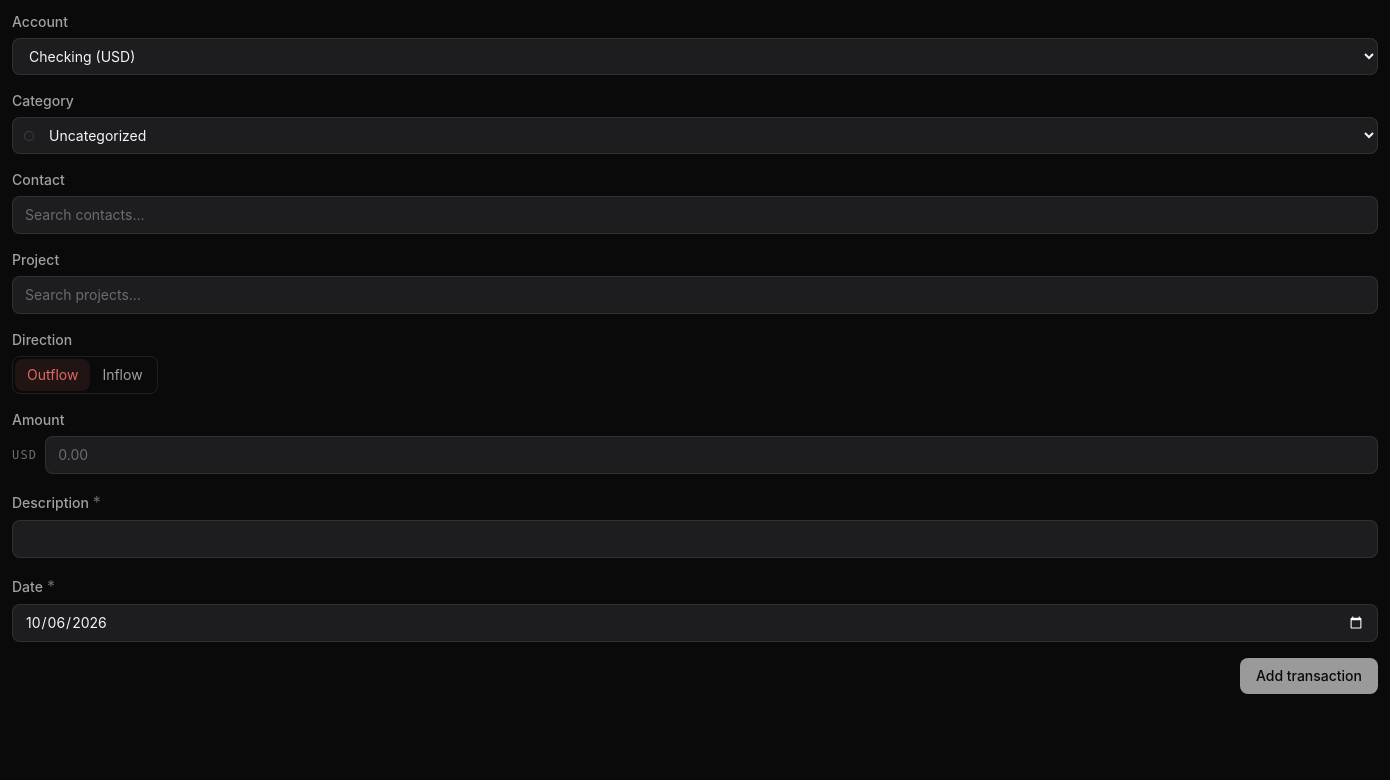
Test: TransactionForm — create › shows a friendly error when the account can't be found (404)
The width and height of the screenshot is (1390, 780).
Type "10" into the field labelled "Amount". click: {"x": 712, "y": 455}
box: [45, 436, 1378, 474]
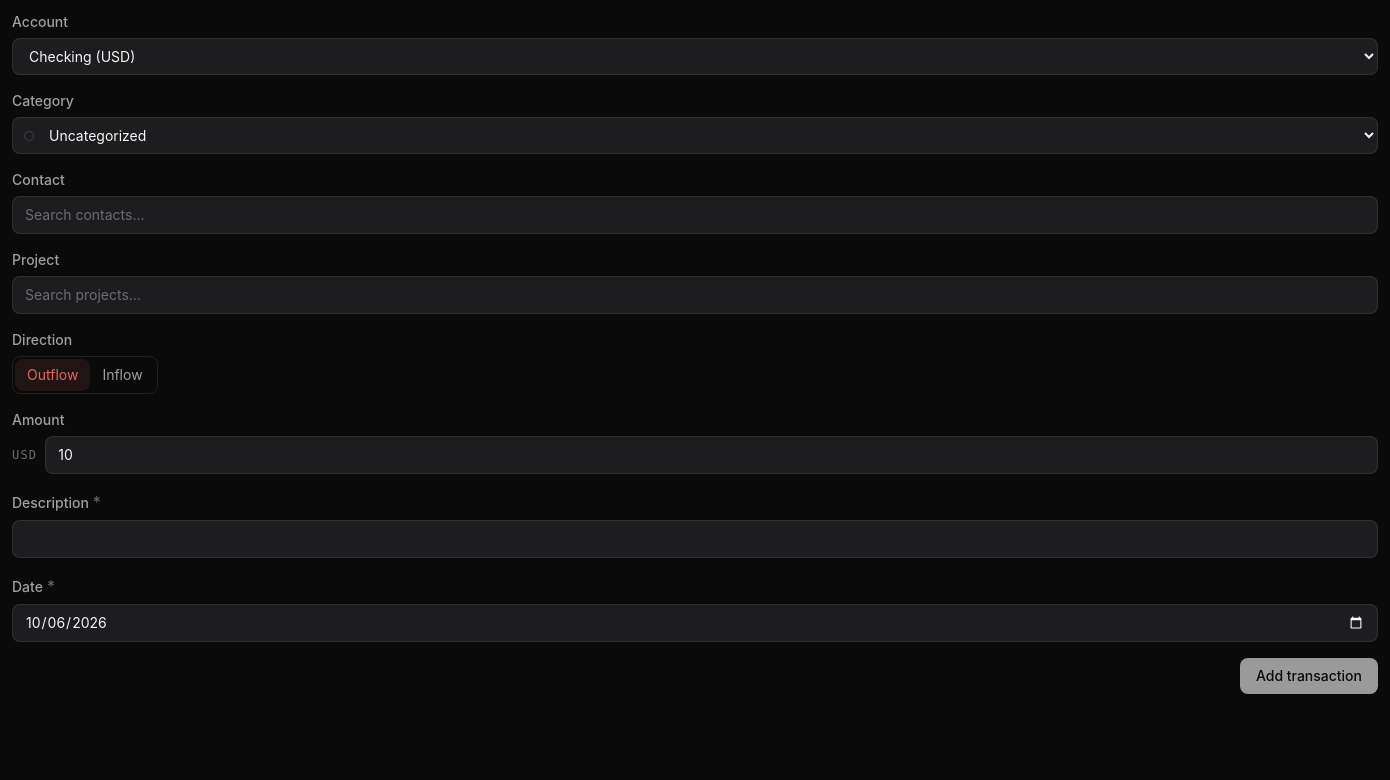
Type "Test" into the field labelled "Description". click: {"x": 695, "y": 539}
box: [12, 520, 1378, 558]
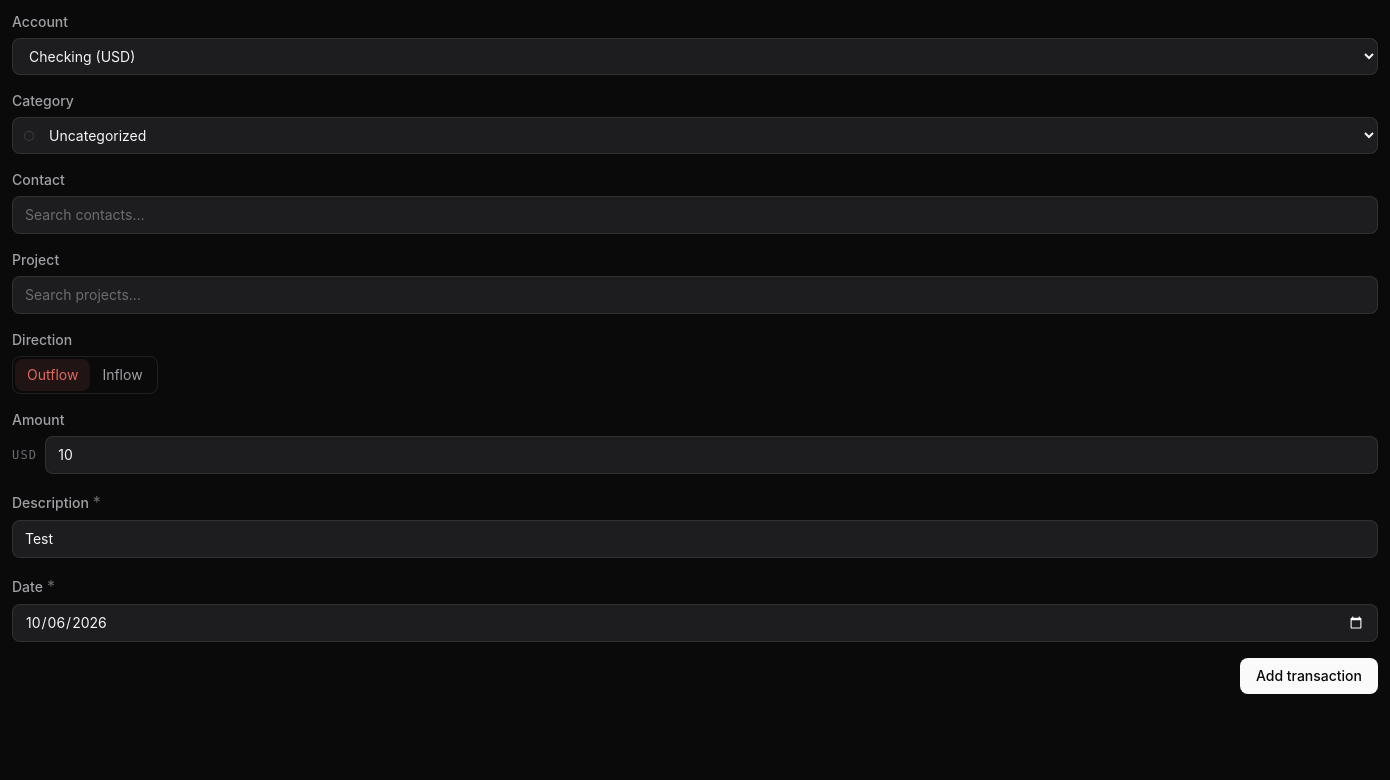
Type "2026-09-10" into the date field labelled "Date". click: {"x": 695, "y": 623}
box: [12, 604, 1378, 642]
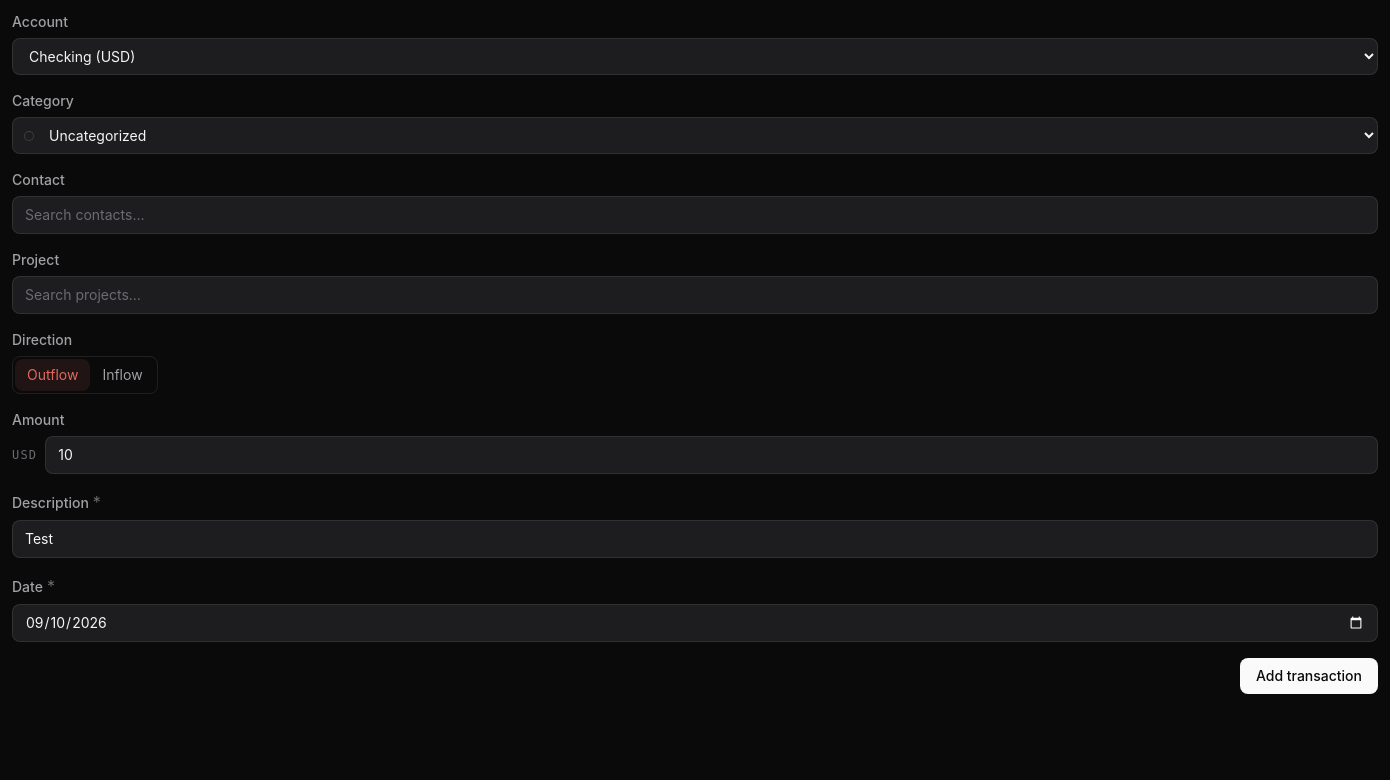
Click the button "Add transaction". click: {"x": 1309, "y": 676}
box: [1240, 658, 1378, 694]
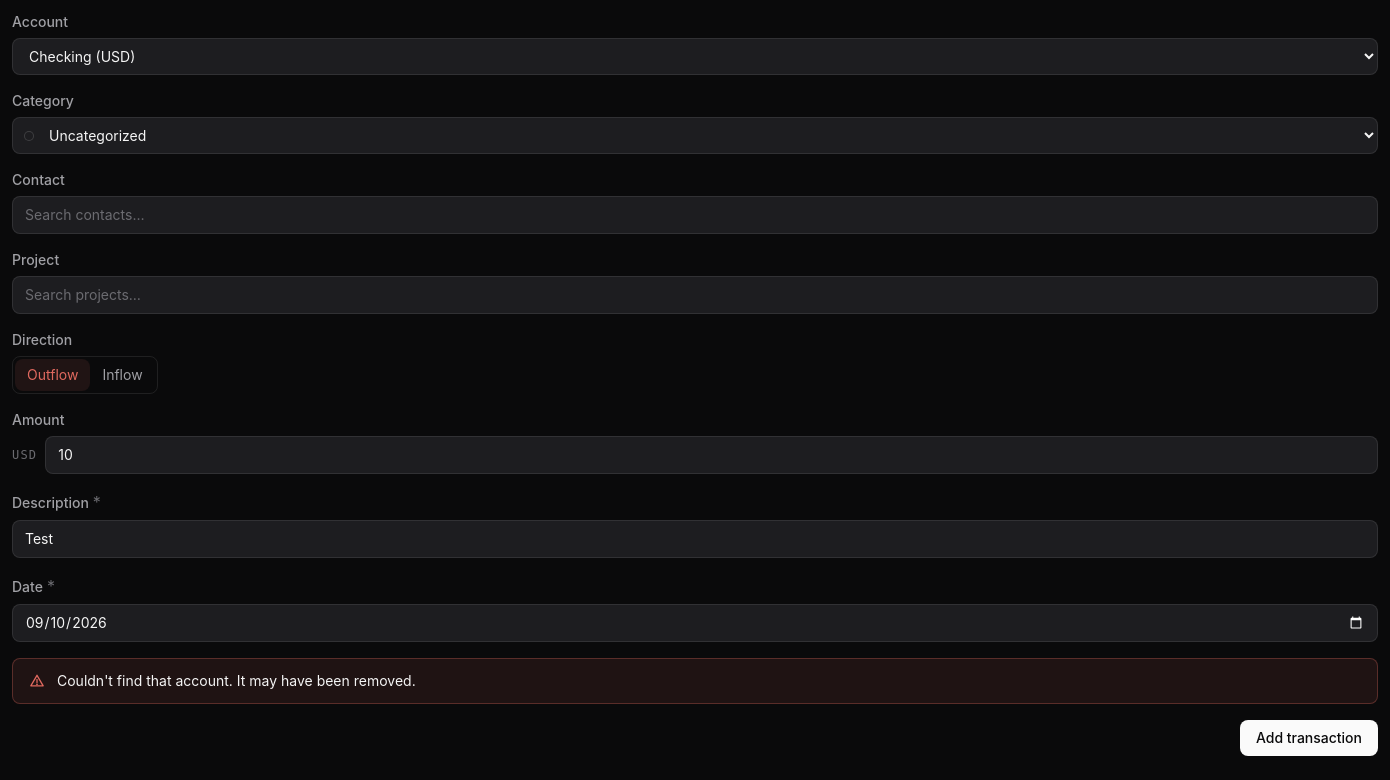
Expected: the message shows "account", [57, 672, 416, 689]
